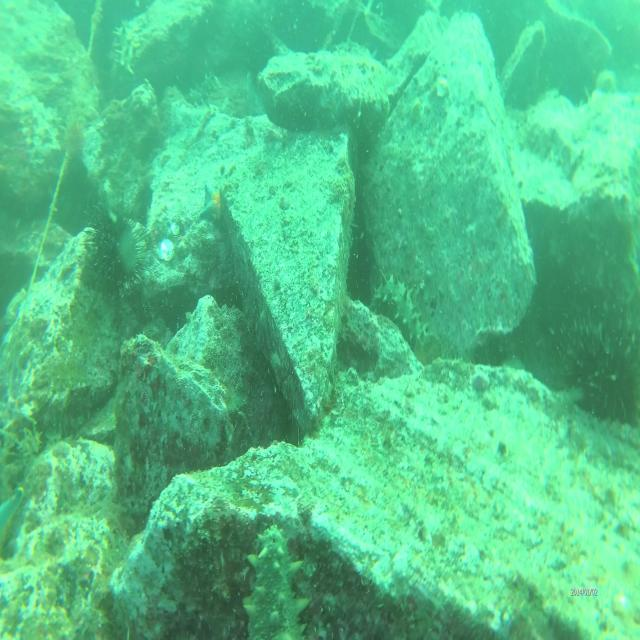echinus: (573, 327, 637, 430), (81, 197, 132, 291)
holothurian: (241, 523, 314, 640), (370, 268, 428, 352), (111, 16, 139, 71), (188, 66, 218, 106)
starfish: (198, 177, 222, 230)
